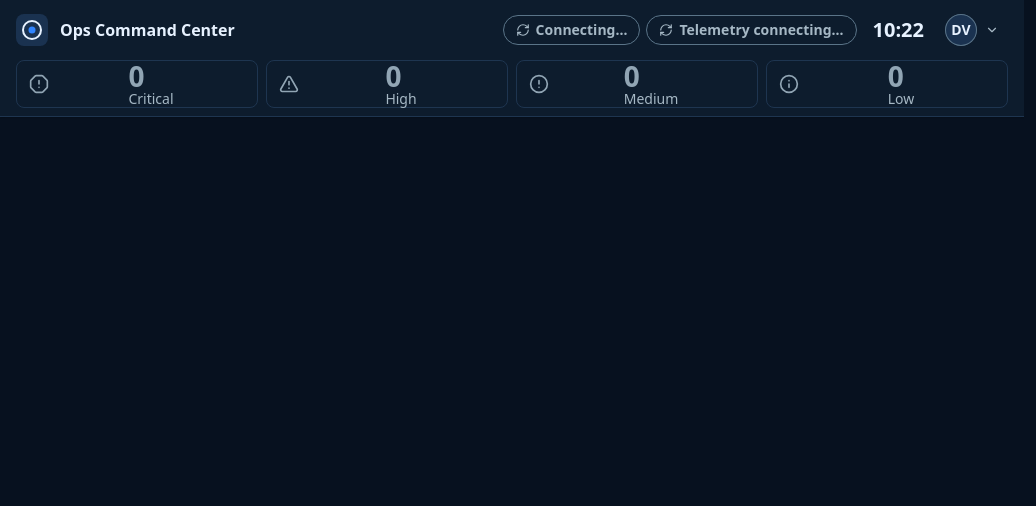
Header › account menu › explains view-only access in the menu
Click the button named "Demo Viewer" at [974, 30], box [940,8,1008,52]
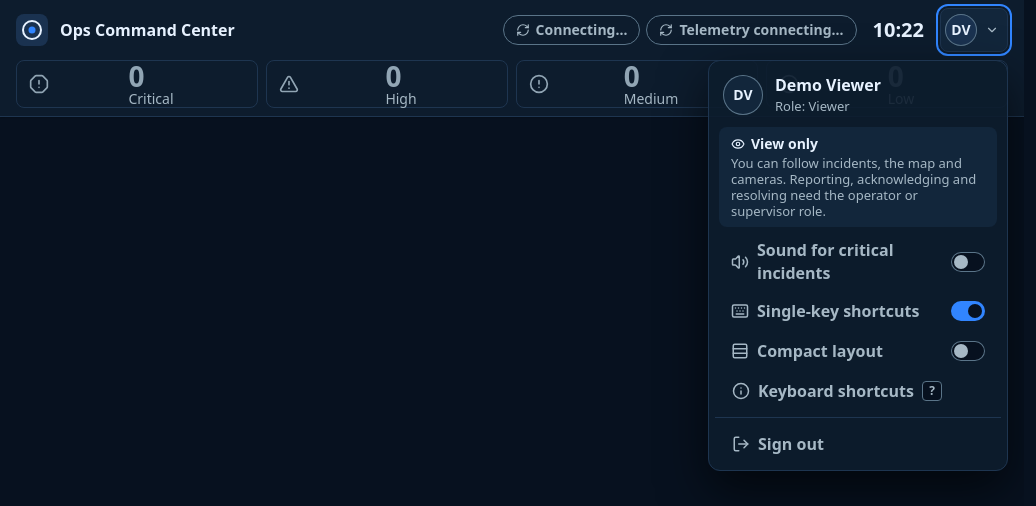
Result: the text "Role: Viewer" is shown at [775,97,850,115]
Result: the text "need the operator or supervisor role" is shown at [731,154,976,220]
